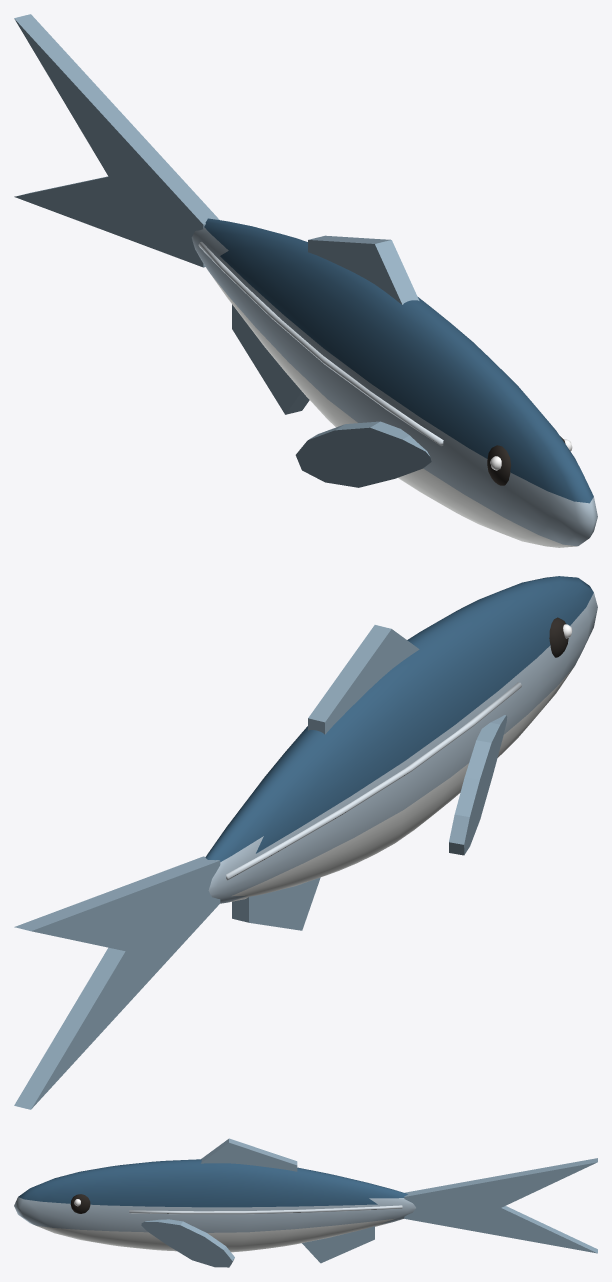
Rendered from sea-herring.glb.
The picture shows the model from 3 angles, top to bottom: view 1: azimuth 30°, elevation 25°; view 2: azimuth 150°, elevation 25°; view 3: azimuth 270°, elevation 25°; orthographic projection. The views are drawn at different scales.
Visible parts, largest first — view 1: fish; view 2: fish; view 3: fish.
Boxes of the visible parts, bbox=[...] form: fish: bbox=[14, 14, 597, 547]; fish: bbox=[14, 576, 597, 1109]; fish: bbox=[14, 1138, 597, 1267].
Size of the model in its own units: 0.0596 by 0.0799 by 0.35.
